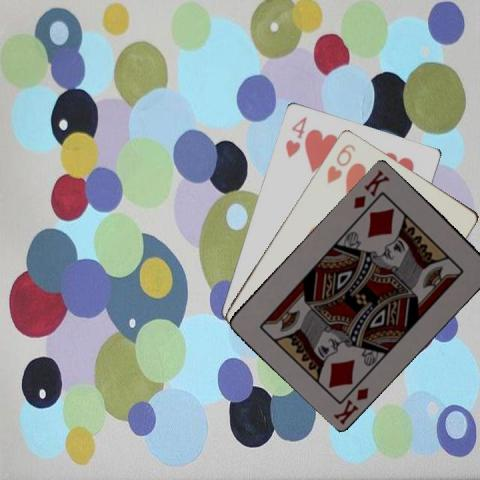4h: (282, 113, 308, 159)
6h: (324, 140, 358, 185)
Kd: (350, 166, 391, 210), (330, 383, 370, 426)
